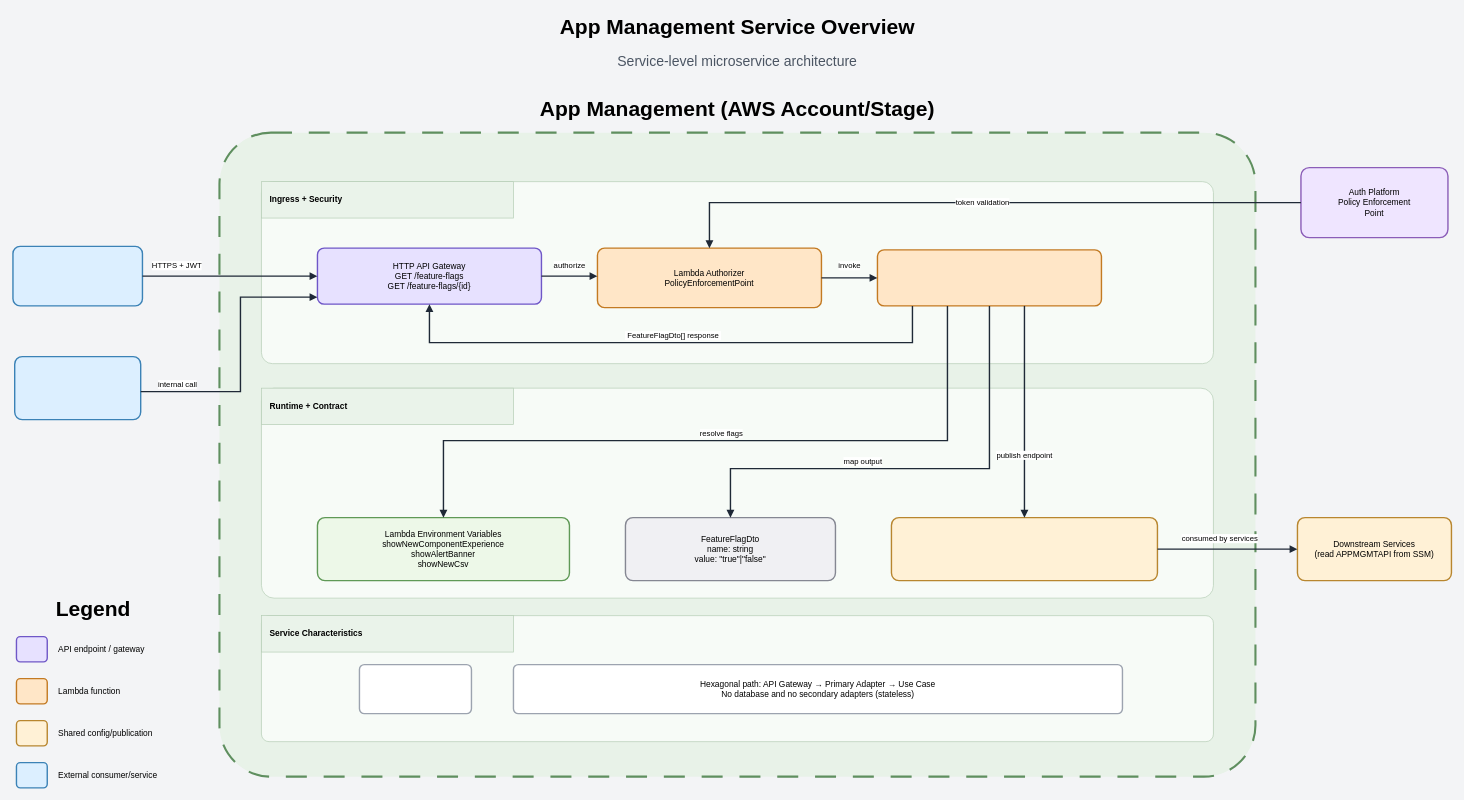
Some shapes in this 1464 by 800 pixel diagram are drawn without their labels. The box of each missing label's shape, as (x1, y1, x2, y2) in pixels:
Feature Flag Lambda Function: (876, 249, 1102, 306)
No DB: (358, 664, 472, 714)
Other Internal Clients: (14, 356, 141, 420)
SSM Parameter Store APP_MGMT.PARAMS.APPMGMTAPI: (890, 517, 1158, 581)
Web App (BFF): (12, 245, 143, 306)
